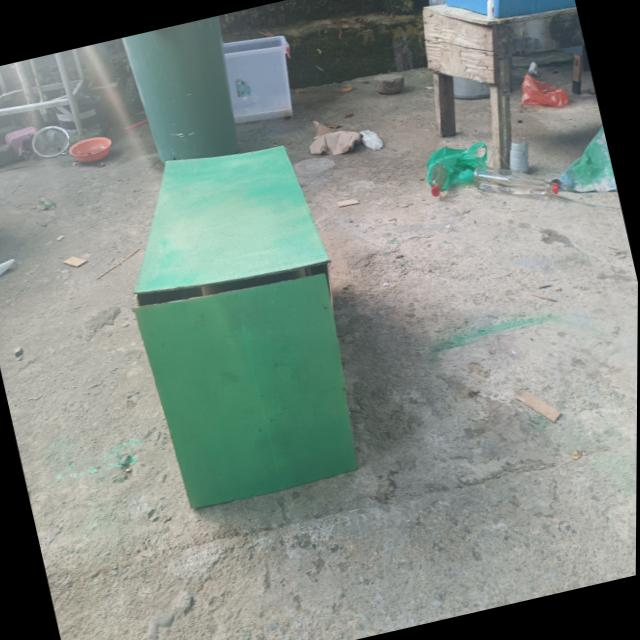green_box: (87, 109, 412, 521)
